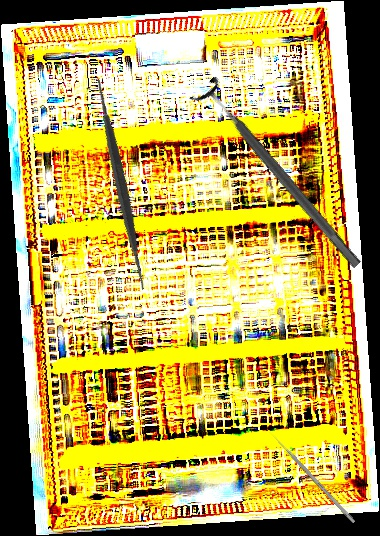Fixation Ring: (188, 74, 372, 278)
Pusher: (268, 430, 356, 524)
Spatula Surgical: (4, 68, 237, 301)
